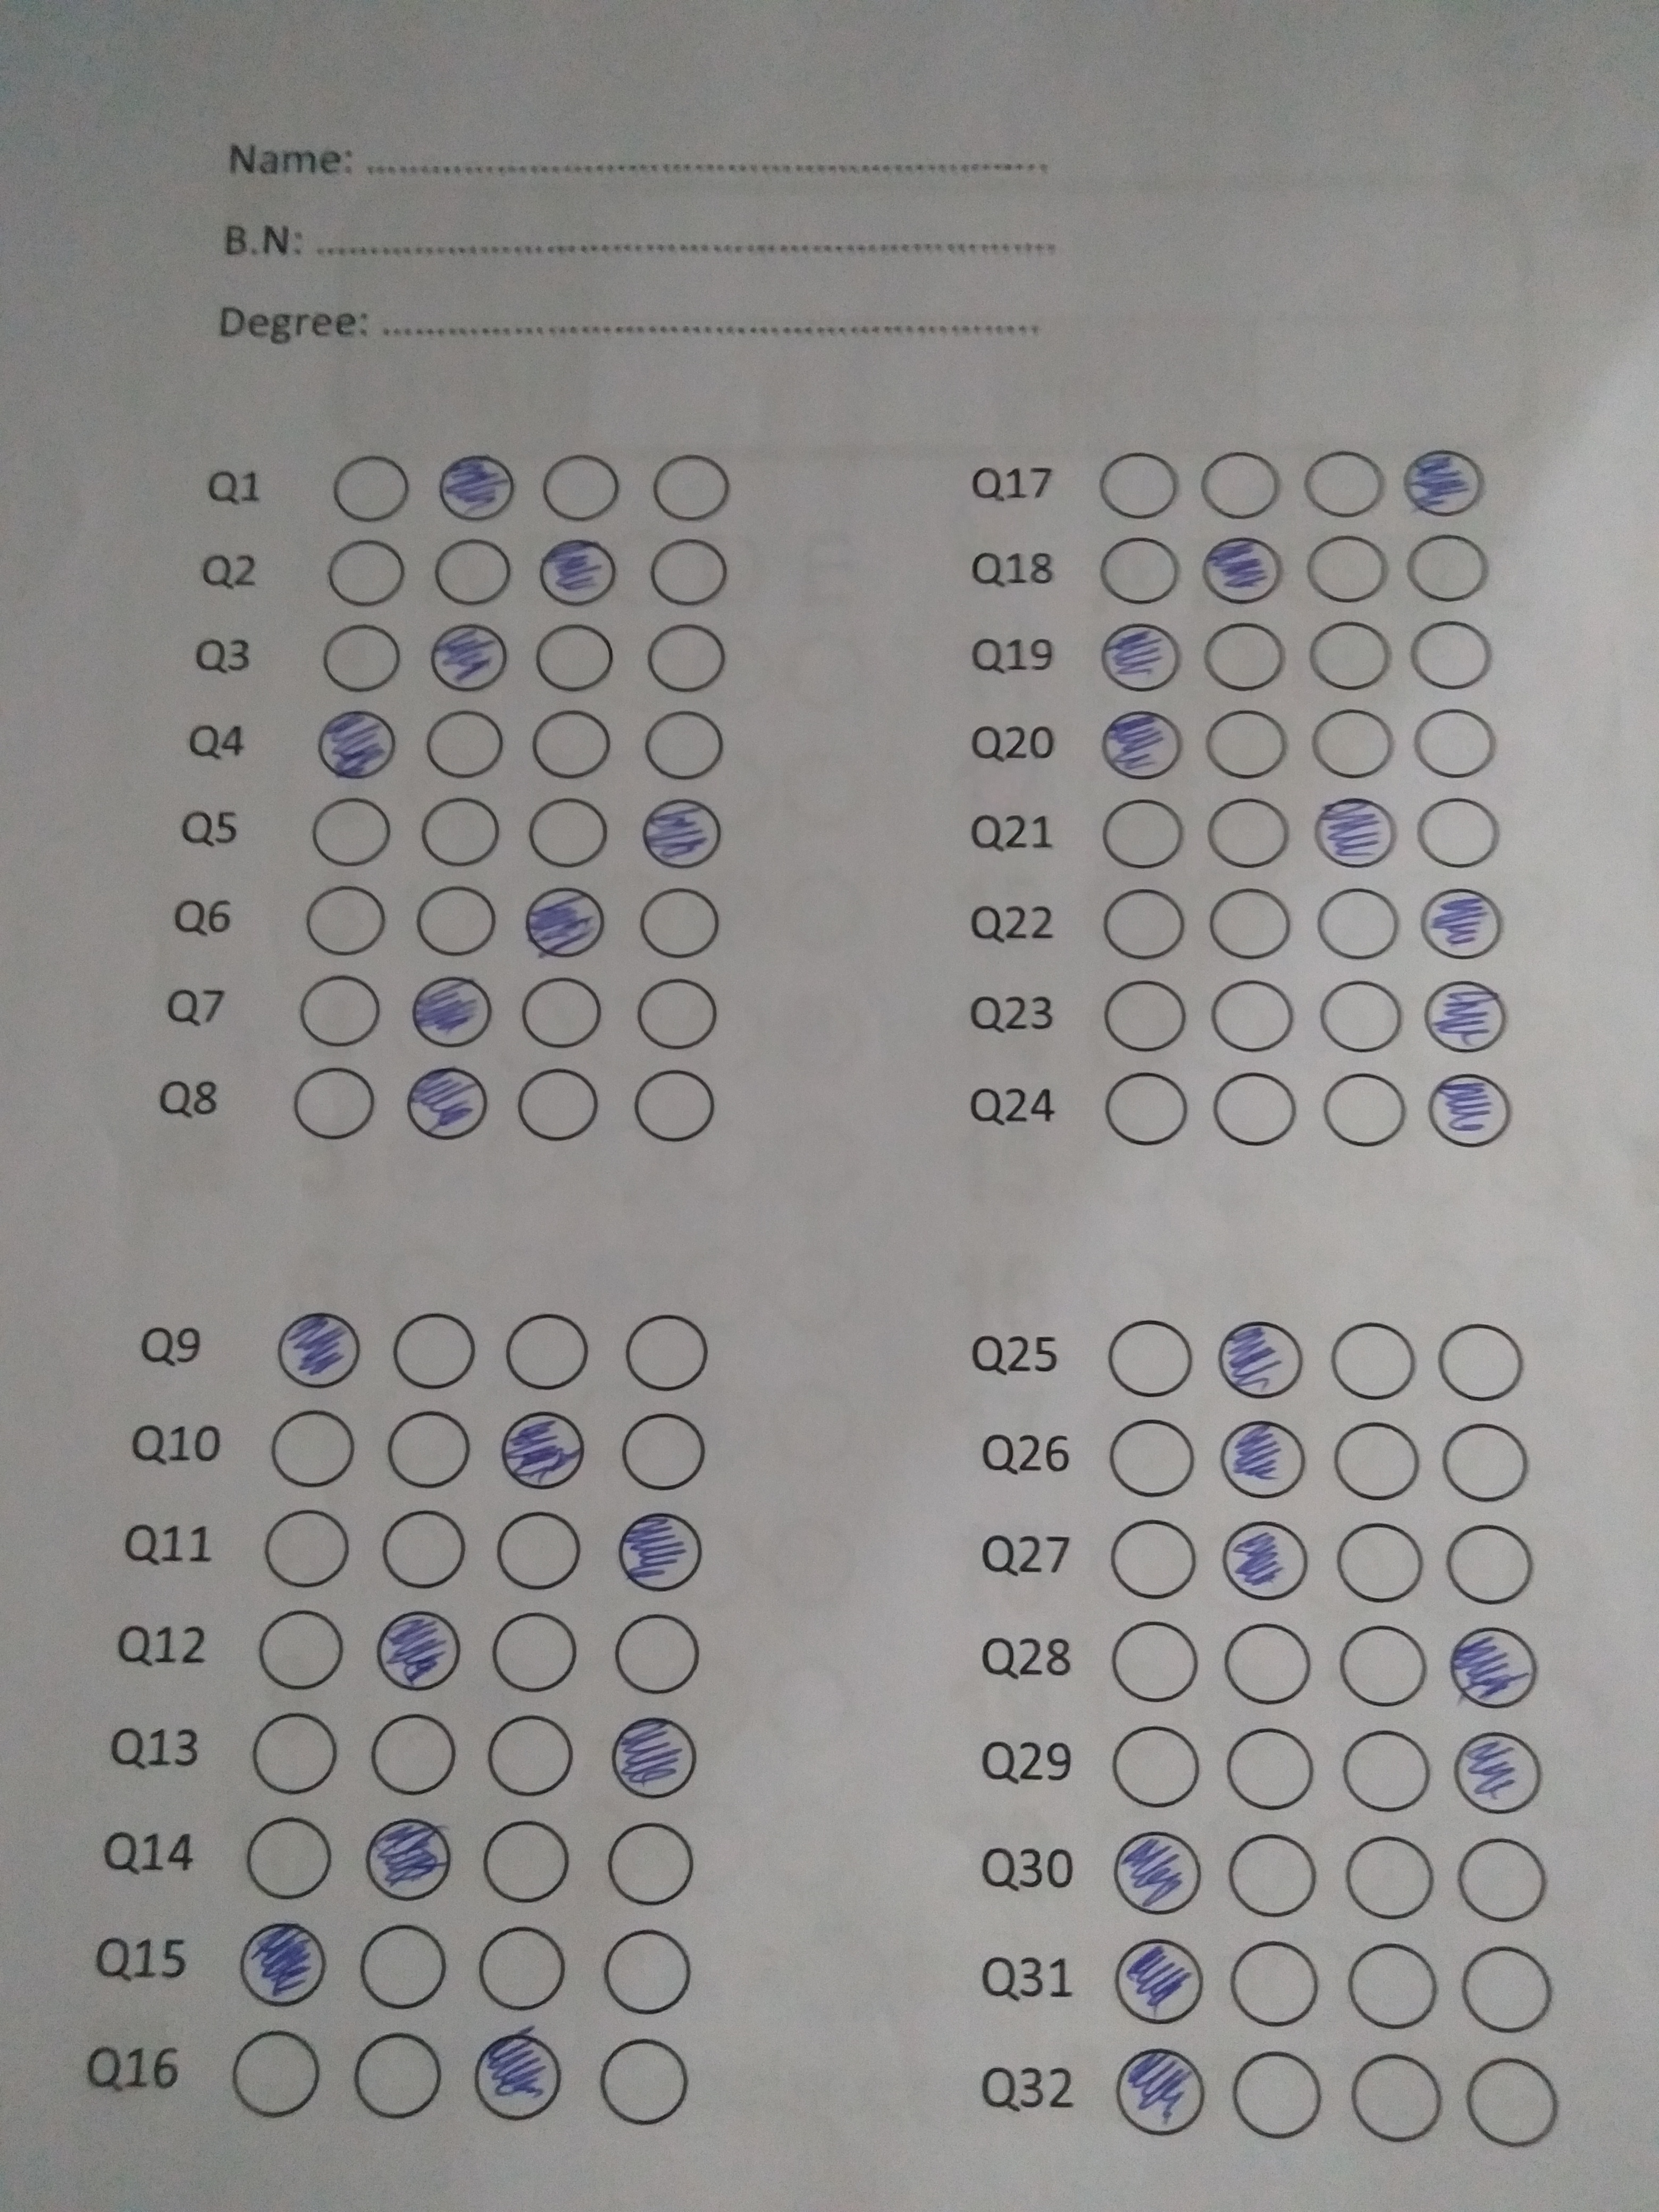not-c: (1345, 1939, 1446, 2033), (1344, 2052, 1445, 2146), (1342, 1831, 1441, 1925), (1218, 1615, 1319, 1707), (1220, 1829, 1321, 1921), (1101, 1514, 1202, 1606), (1453, 1829, 1554, 1921), (1225, 1937, 1326, 2029), (1229, 2048, 1330, 2141), (592, 2034, 694, 2127), (347, 2027, 448, 2120), (227, 2024, 328, 2116), (469, 1919, 570, 2012), (350, 1923, 451, 2015), (237, 1811, 338, 1904), (601, 1817, 702, 1909), (474, 1817, 575, 1909), (244, 1705, 345, 1797), (253, 1604, 354, 1696), (1337, 1724, 1438, 1817), (1438, 1517, 1539, 1609), (1103, 1312, 1204, 1404), (1108, 1721, 1208, 1813), (1220, 1723, 1319, 1815), (1457, 1942, 1556, 2034), (1460, 2055, 1560, 2148), (598, 1923, 697, 2015), (479, 1707, 579, 1799), (362, 1707, 462, 1799), (608, 1609, 708, 1702), (484, 1606, 584, 1698), (1337, 1618, 1436, 1710), (1330, 1517, 1429, 1609), (1436, 1414, 1535, 1507), (1330, 1416, 1429, 1508), (613, 1406, 713, 1498), (1103, 1413, 1202, 1505), (1108, 1613, 1208, 1705), (371, 1505, 471, 1594), (486, 1507, 586, 1595), (380, 1402, 476, 1493), (261, 1406, 361, 1493), (260, 1503, 354, 1592), (1094, 528, 1185, 608), (1403, 528, 1493, 608), (631, 972, 721, 1052), (634, 883, 725, 963), (514, 1064, 605, 1144), (523, 791, 613, 871), (640, 618, 730, 698), (530, 618, 620, 698), (425, 531, 516, 611), (640, 528, 730, 608), (1326, 1318, 1417, 1399), (504, 1313, 594, 1393), (1201, 444, 1291, 524), (1208, 885, 1298, 965), (1310, 880, 1401, 960), (1208, 974, 1298, 1054), (1101, 1068, 1192, 1148), (1098, 880, 1188, 960), (1101, 794, 1192, 874), (1202, 792, 1293, 873), (1309, 700, 1399, 780), (1406, 617, 1497, 697), (645, 448, 734, 528), (329, 448, 418, 528), (1093, 446, 1183, 524), (1302, 529, 1392, 608), (1302, 444, 1392, 523), (627, 1066, 718, 1144), (514, 972, 605, 1050), (291, 1062, 382, 1141), (296, 972, 387, 1050), (636, 704, 727, 782), (300, 880, 390, 958), (411, 880, 502, 958), (525, 704, 615, 782), (420, 704, 511, 782), (317, 617, 408, 695), (535, 449, 626, 528), (1438, 1324, 1528, 1402), (619, 1313, 709, 1392), (383, 1310, 474, 1388), (1316, 974, 1406, 1052), (1211, 1069, 1302, 1148), (1408, 702, 1499, 780), (1202, 704, 1293, 782), (1307, 613, 1398, 691), (1197, 615, 1288, 693), (310, 791, 399, 869), (416, 792, 505, 871), (322, 535, 411, 613), (1323, 1069, 1412, 1148), (1101, 975, 1190, 1054), (1417, 792, 1506, 871)
taken-c: (469, 2029, 568, 2125), (1115, 2047, 1213, 2142), (1108, 1933, 1206, 2027), (1107, 1829, 1208, 1919), (599, 1716, 706, 1801), (1450, 1723, 1544, 1815), (1211, 1515, 1310, 1601), (1216, 1420, 1316, 1505), (1446, 1625, 1544, 1709), (613, 1510, 711, 1594), (361, 1815, 455, 1898), (237, 1923, 326, 2008), (497, 1406, 586, 1491), (275, 1306, 366, 1390), (371, 1611, 460, 1691), (401, 1064, 488, 1144), (1310, 792, 1398, 873), (1094, 618, 1182, 698), (1399, 441, 1486, 521), (636, 792, 723, 873), (404, 970, 493, 1049), (1215, 1320, 1303, 1399), (1424, 1069, 1513, 1148), (1420, 977, 1509, 1055), (1096, 705, 1185, 784), (1197, 529, 1286, 608), (521, 880, 610, 958), (423, 617, 512, 695), (430, 449, 519, 528), (1417, 885, 1504, 963), (312, 705, 399, 784), (528, 528, 615, 606)
